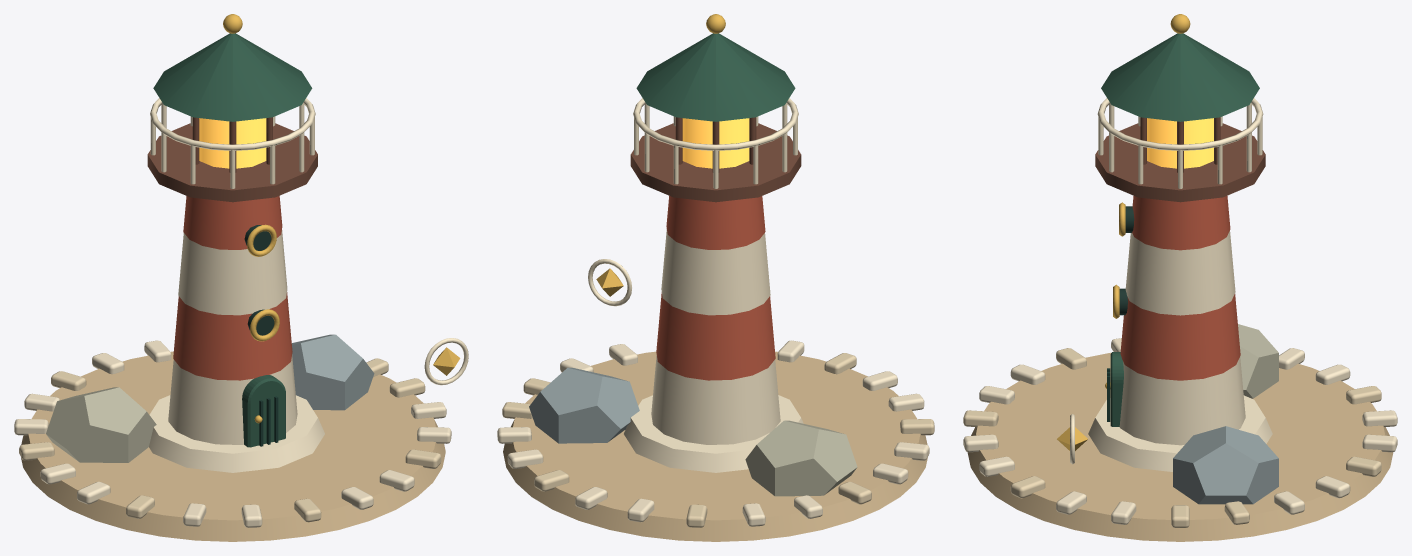
File: lab.glb
3 views of the same model, side by side, from view 1: azimuth 30°, elevation 25°; view 2: azimuth 150°, elevation 25°; view 3: azimuth 270°, elevation 25° (orthographic).
Visible parts, largest first — view 1: building-lab, landmark-lab, treasure-lab; view 2: building-lab, landmark-lab, treasure-lab; view 3: building-lab, landmark-lab, treasure-lab.
Part boxes in pixels (x1,y1,x2,y2): building-lab: (46,14,374,472); landmark-lab: (14,340,451,541); treasure-lab: (424,338,468,385); building-lab: (529,14,857,496); landmark-lab: (497,340,934,541); treasure-lab: (588,259,631,306); building-lab: (1088,14,1278,504); landmark-lab: (963,338,1397,541); treasure-lab: (1057,414,1087,464).
Bounding box in the file's own units: 1.54 × 1.72 × 1.53.
